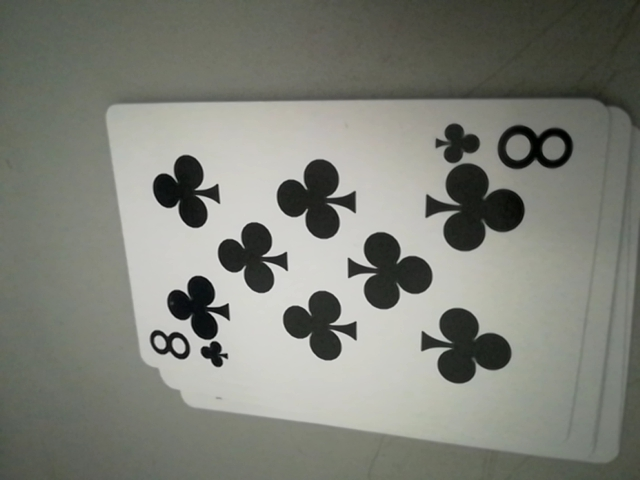mh 8: (431, 115, 578, 173), (147, 326, 227, 376)
